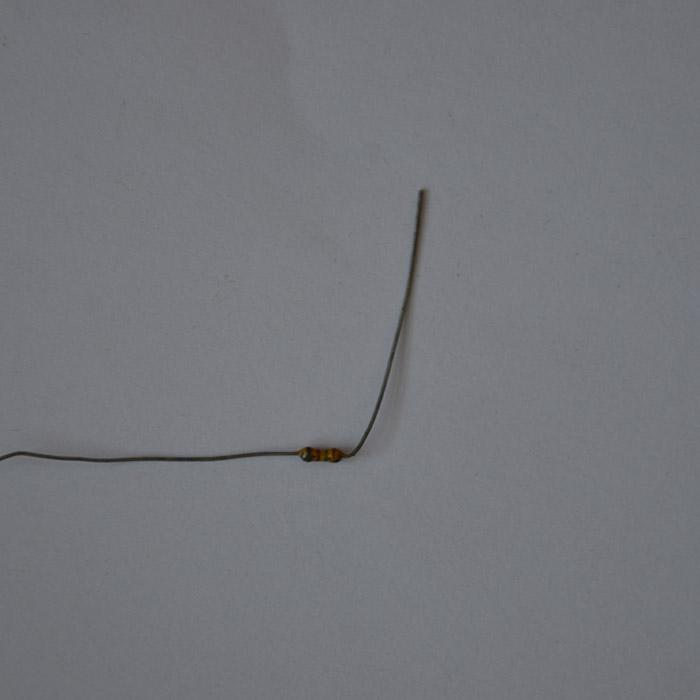resistor: (296, 442, 347, 471)
